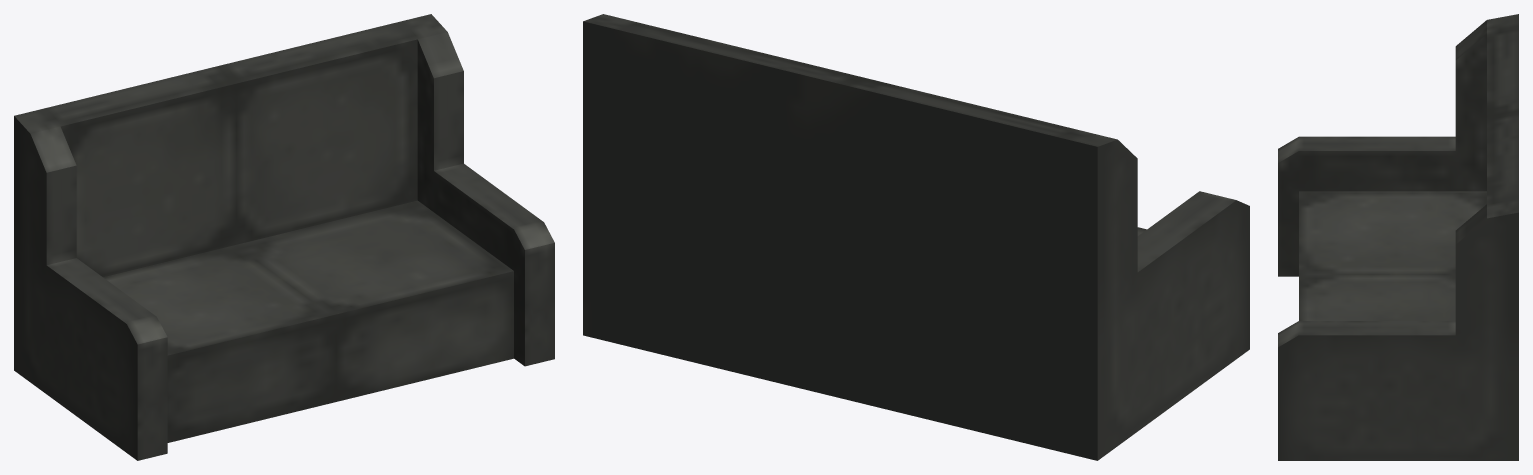
Rendered from Sofa.fbx.
The picture shows the model from 3 angles, left to right: view 1: azimuth 30°, elevation 25°; view 2: azimuth 150°, elevation 25°; view 3: azimuth 270°, elevation 25°; orthographic projection. The views are drawn at different scales.
Parts seen in each view (by area): view 1: pCube84; view 2: pCube84; view 3: pCube84.
Part boxes in pixels (x1,y1,x2,y2): pCube84: (14, 14, 554, 460); pCube84: (583, 14, 1249, 460); pCube84: (1278, 14, 1518, 460).
Size of the model in its own units: 825 by 481 by 423.
